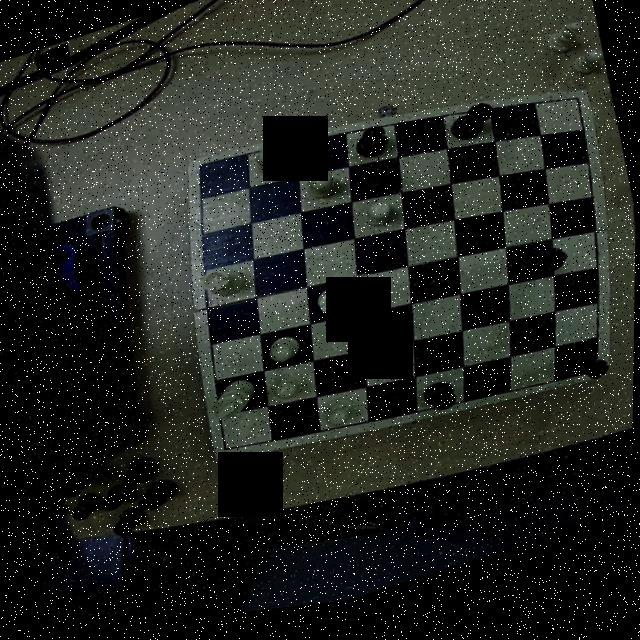chess-table-corners: (189, 156, 219, 188), (212, 434, 241, 466), (578, 369, 610, 396), (565, 101, 592, 128)
